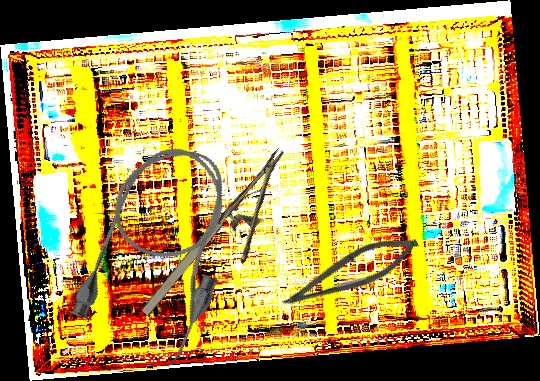Cannula: (64, 130, 258, 371)
Micro Scissor: (276, 222, 425, 325)
Needle Holder: (136, 147, 317, 340)
